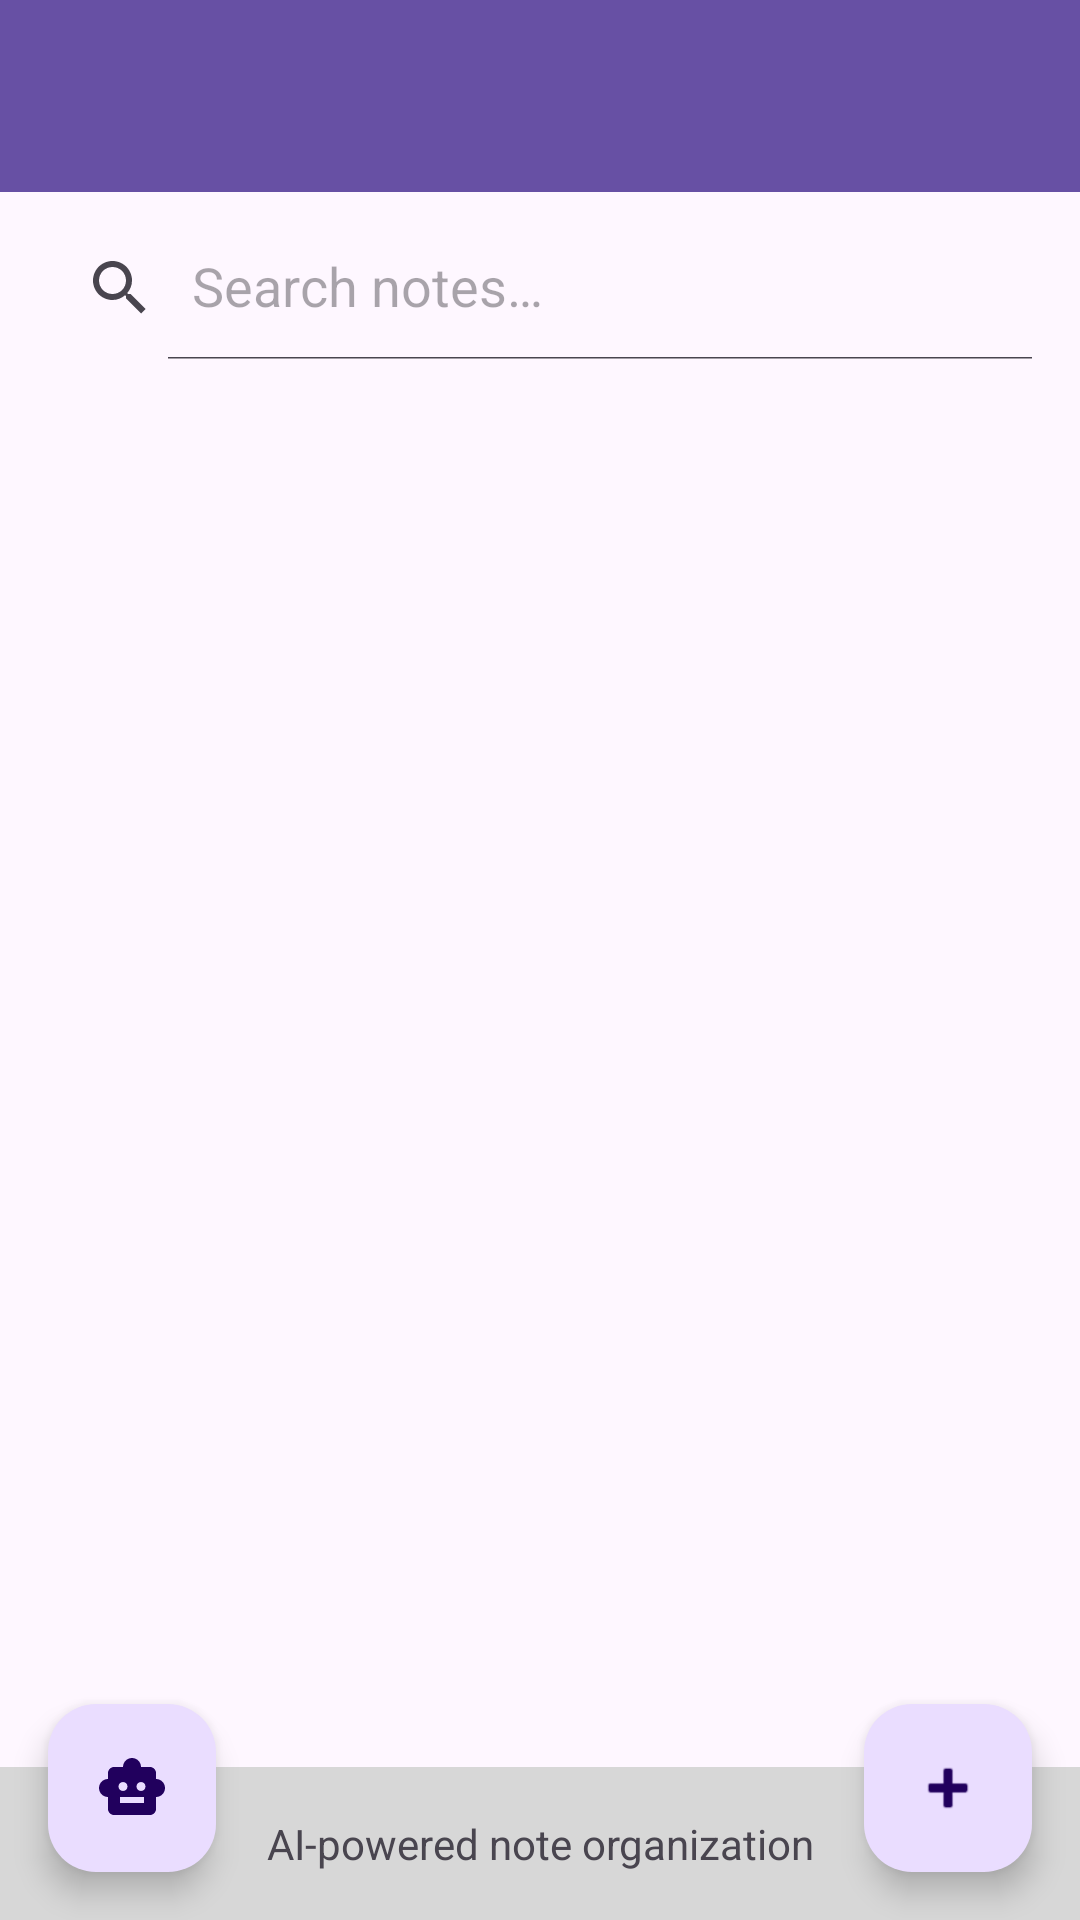

Point at icon controls on the screen. Image size 1080 × 1920, points as (x=x, y=y).
Add Note: (x=948, y=1788)
Chat with bot: (x=132, y=1788)
